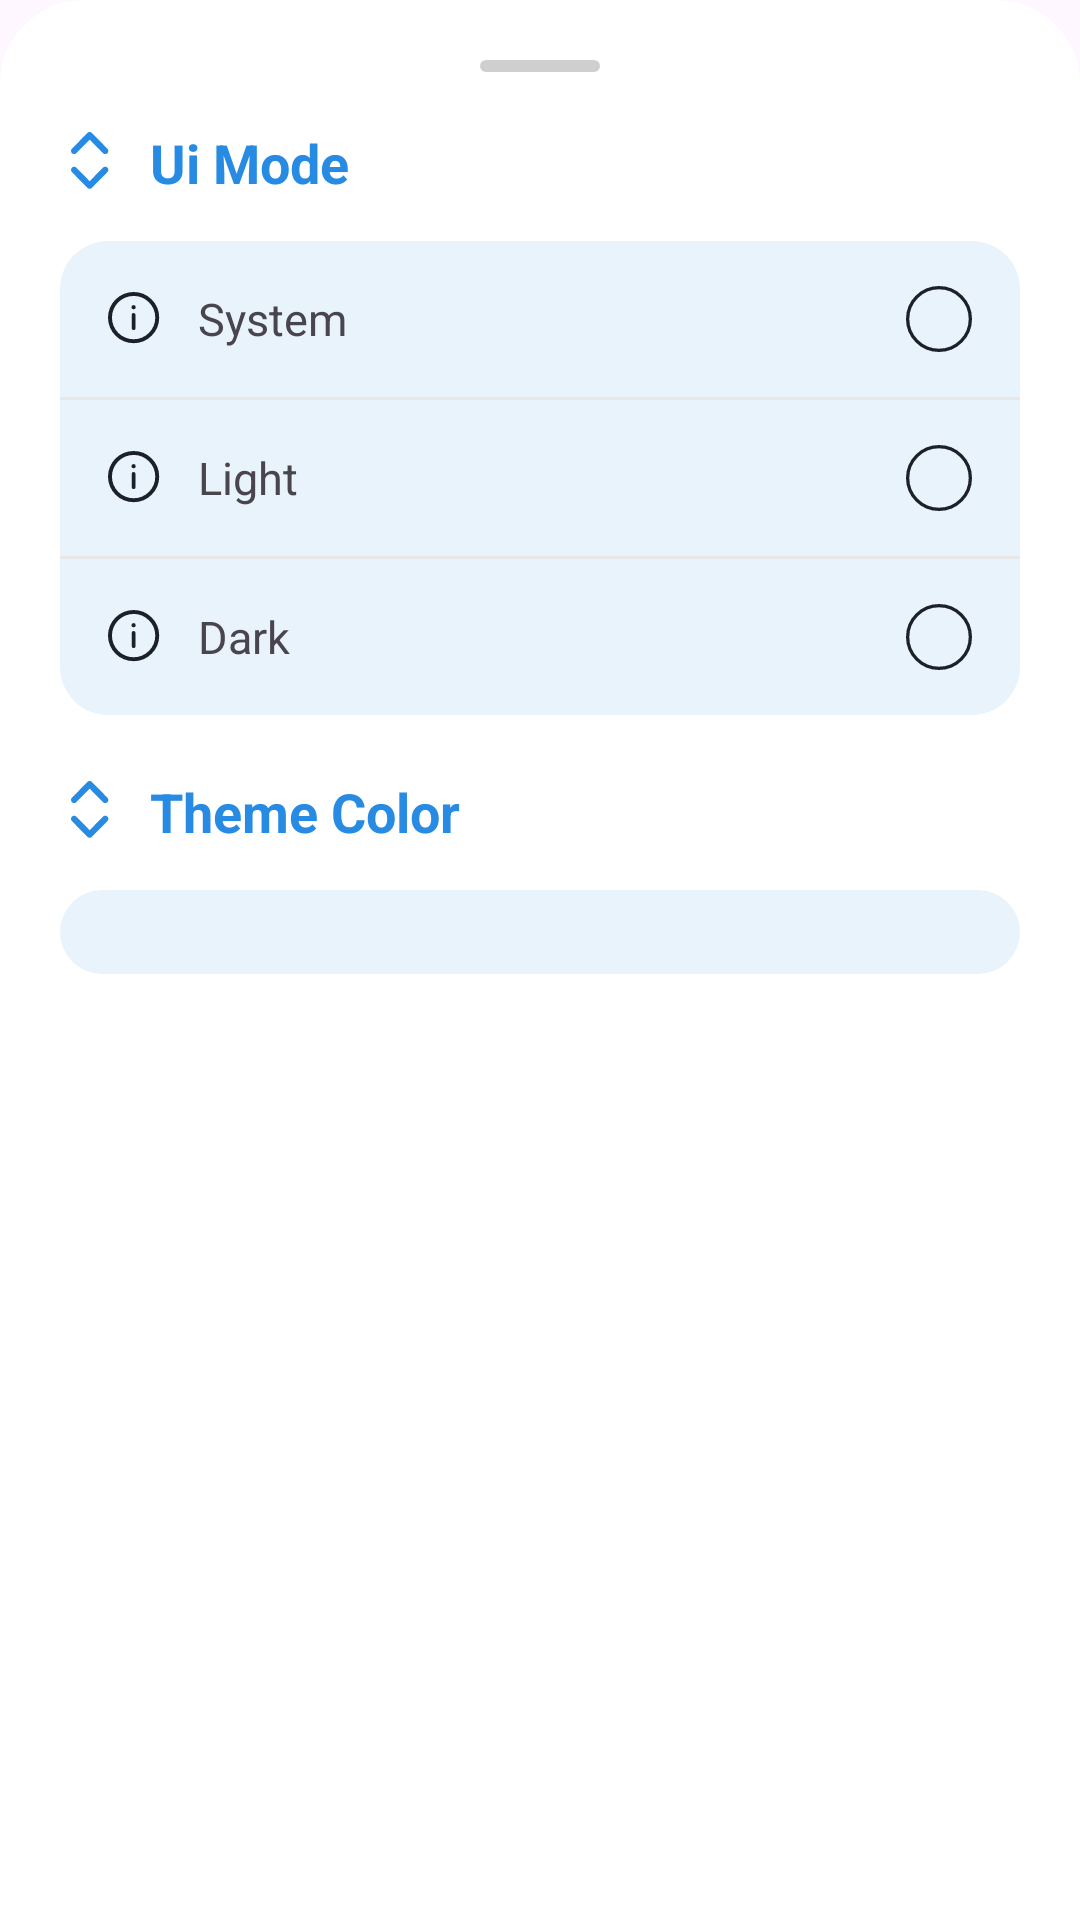

Named icons in this screenshot (1080w x 1920h) and their centers, [x,y]:
details: [134,318], [134,477], [134,636]
sort: [90,160], [90,809]
